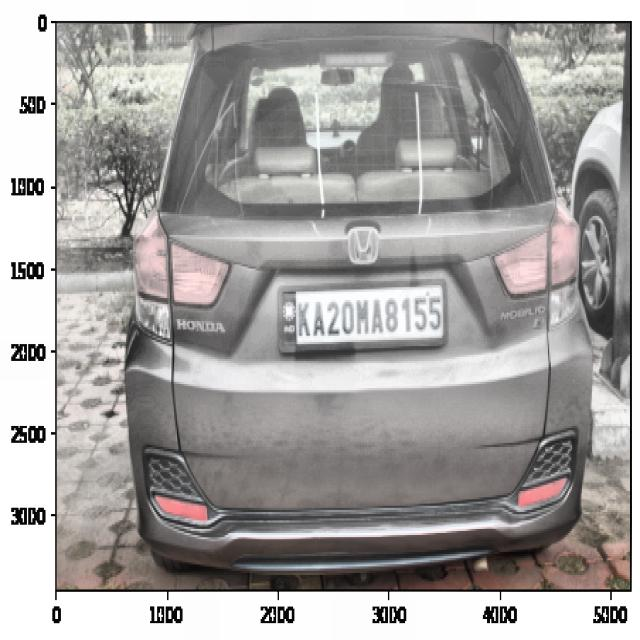license_plate: (290, 293, 448, 348)
